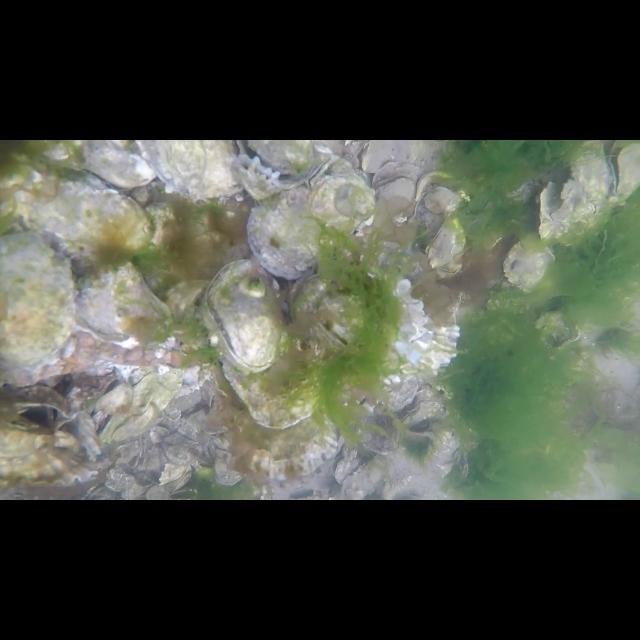Oyster-Closed: (246, 163, 374, 279), (0, 229, 78, 385), (15, 174, 152, 254), (201, 260, 283, 374), (76, 262, 174, 346), (230, 140, 336, 196), (74, 140, 158, 194), (502, 234, 554, 296), (424, 216, 466, 282), (402, 402, 434, 431)
Oyster-Indeterminate: (292, 273, 460, 385), (217, 322, 325, 428), (225, 379, 338, 479), (540, 140, 612, 238), (133, 140, 244, 202), (104, 370, 188, 436), (0, 447, 100, 488), (0, 424, 80, 461), (356, 402, 402, 456), (416, 165, 460, 219), (341, 458, 387, 500), (213, 437, 245, 487), (382, 380, 421, 410)
Oyster-Open: (0, 386, 76, 436), (608, 140, 640, 196), (372, 174, 416, 214), (328, 456, 359, 482), (407, 420, 438, 442)
